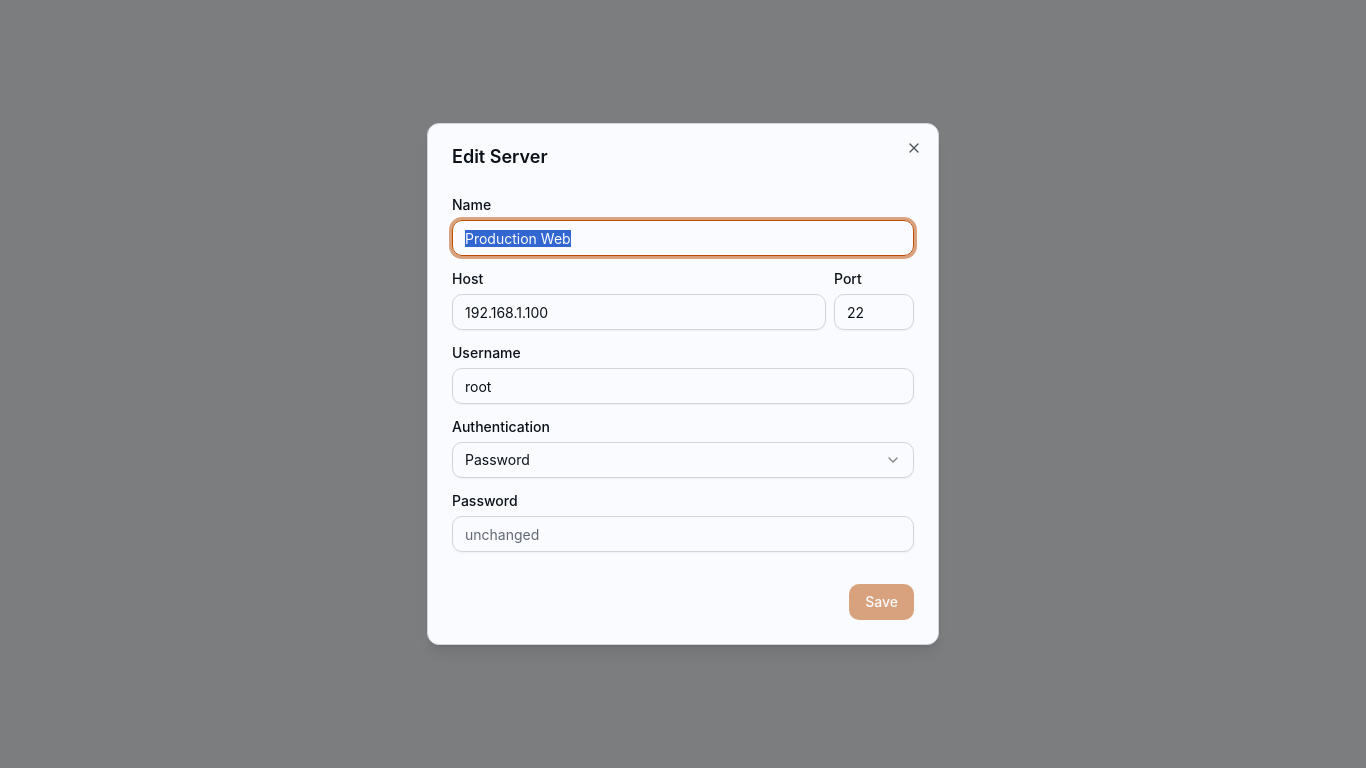
Test: EditServerDialog › shows error when re-test connection fails
Note: Change host to trigger re-test requirement
Clear the field labelled "Host": {"x": 639, "y": 312} [452,294,826,330]
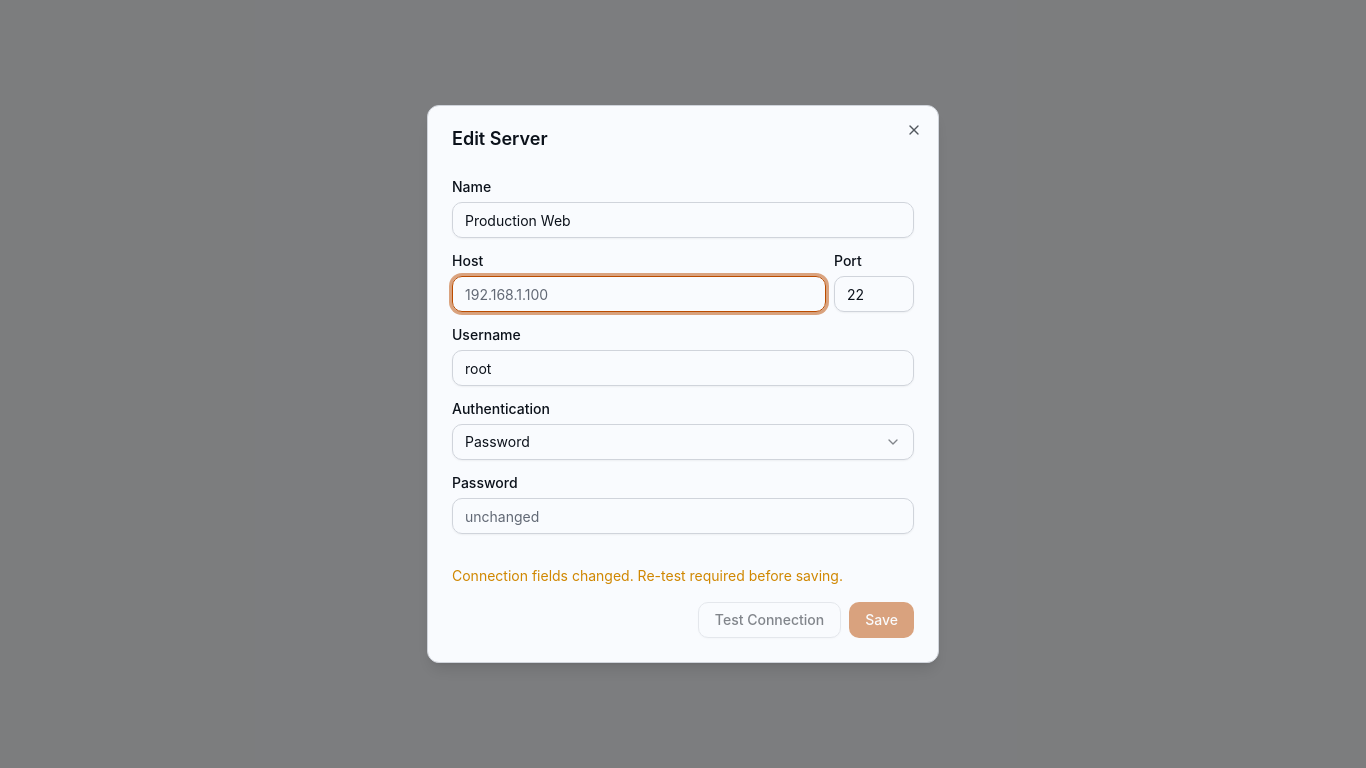
In the field labelled "Host": {"x": 639, "y": 294} [452,276,826,312], type "10.0.0.99"
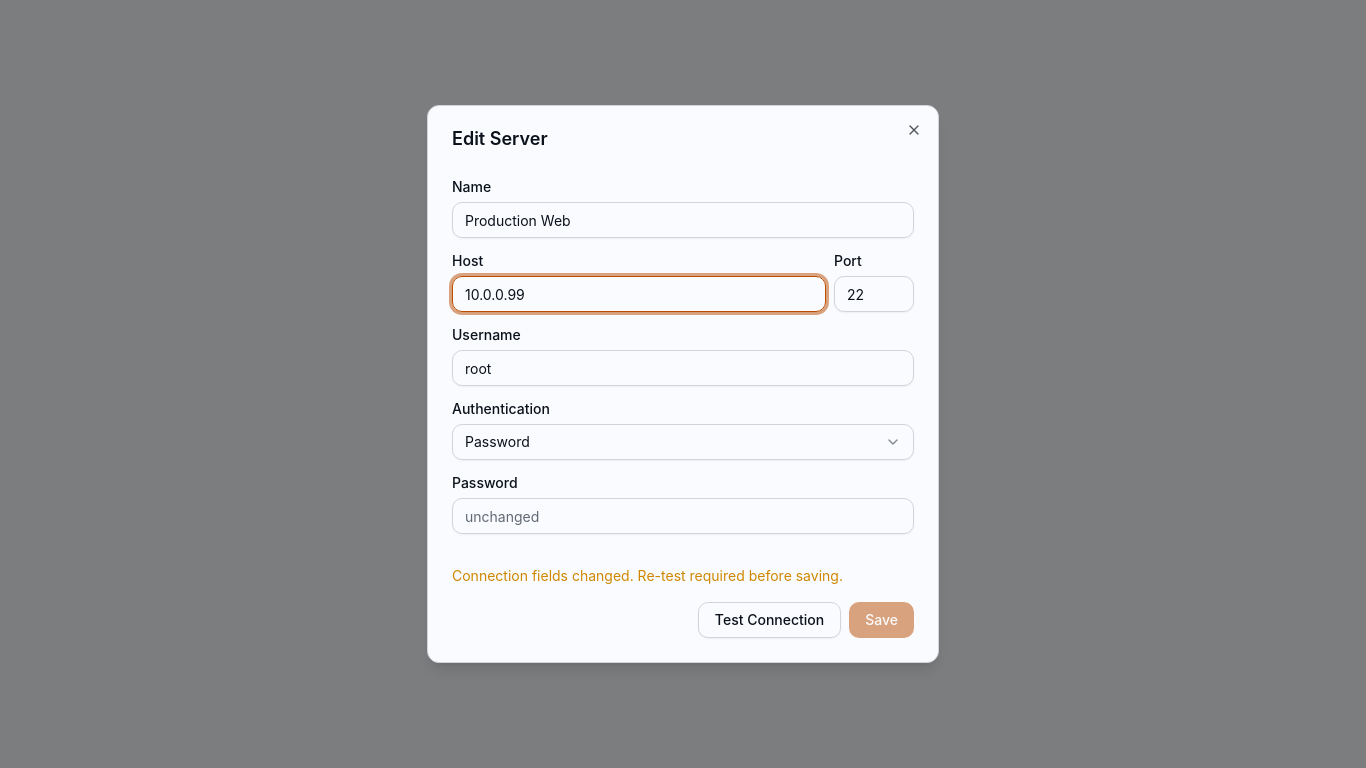
Click the button "Test Connection": {"x": 770, "y": 620} [698,602,841,638]
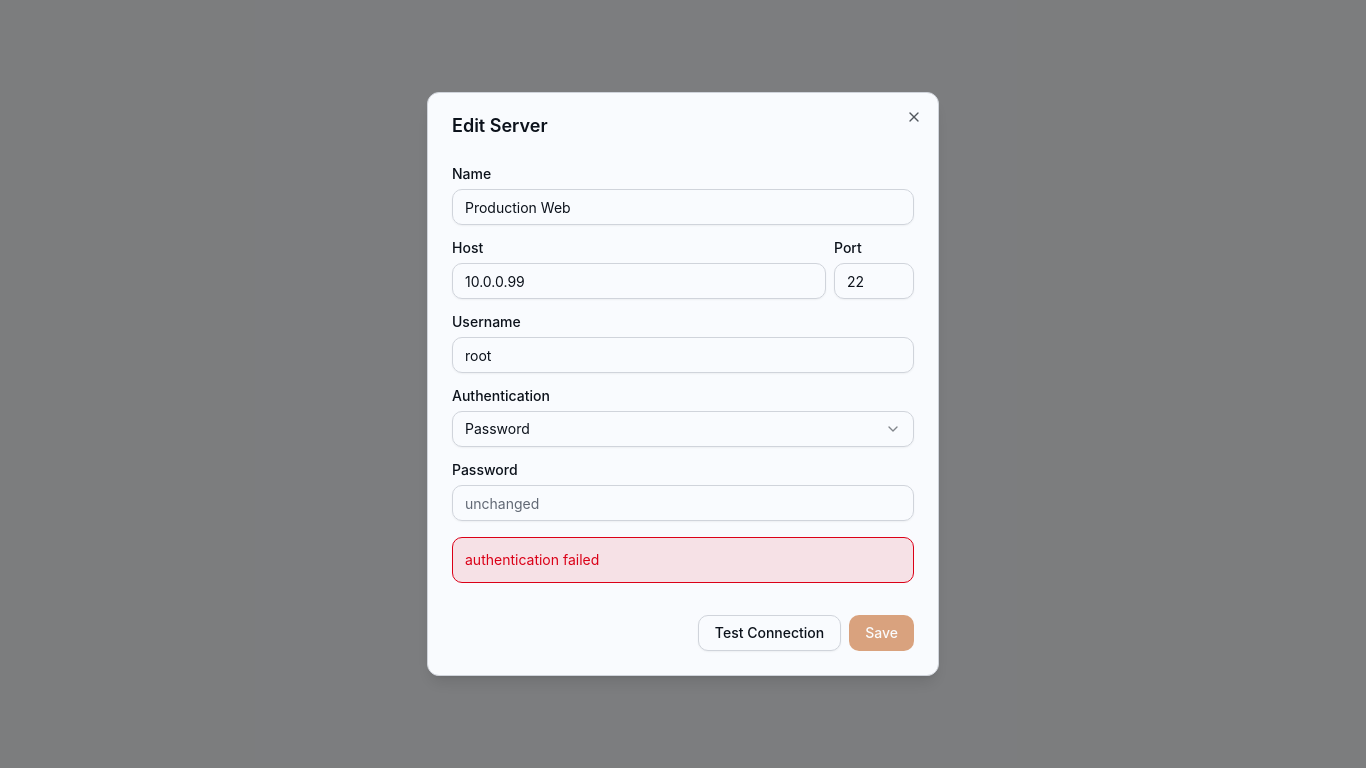
Expected: the button "Save" is disabled, [849,615,914,651]
Expected: the message reads "authentication failed", [465,551,599,568]
